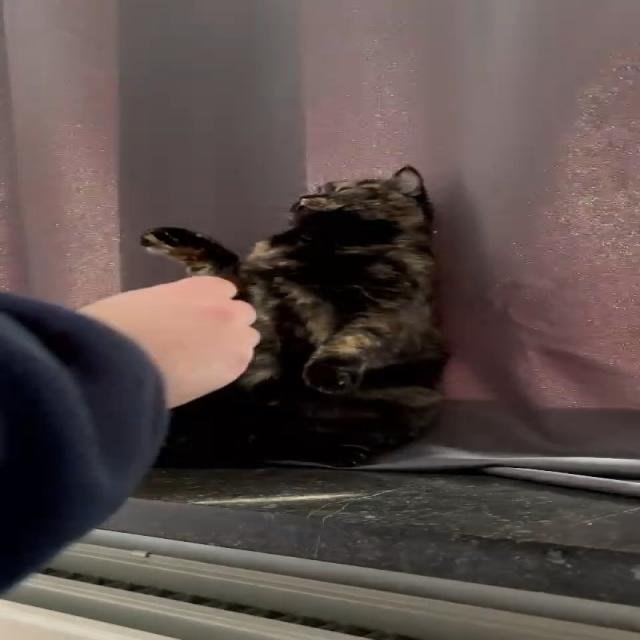authorized: (137, 164, 451, 468)
